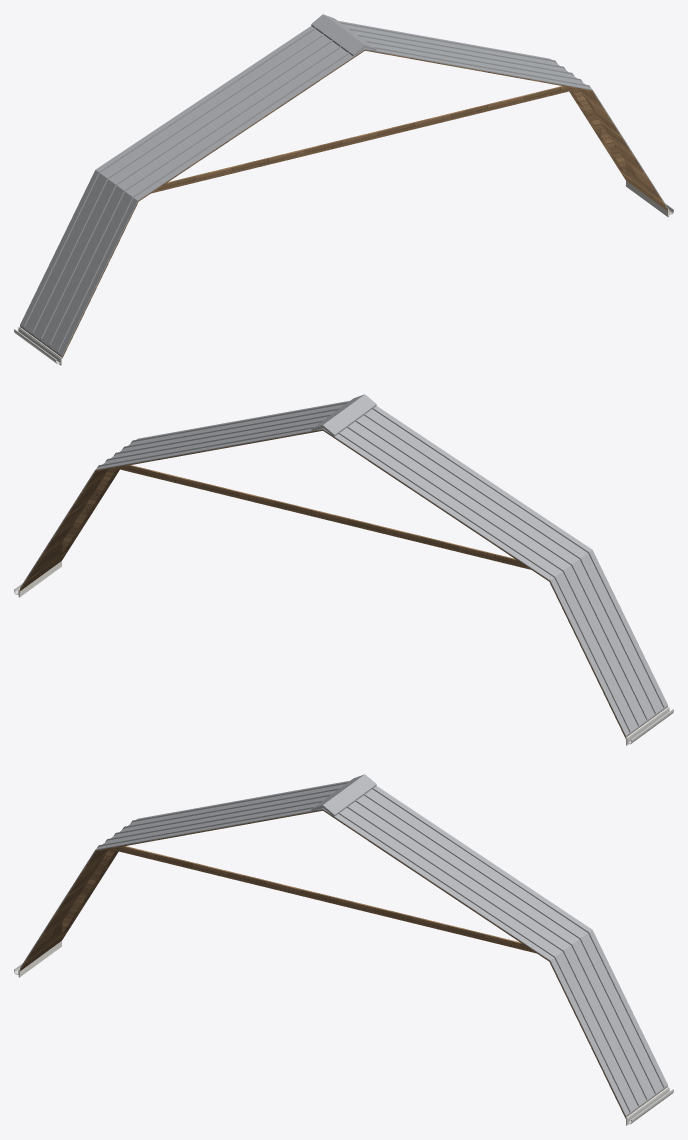
File: barn_roof.glb
3 views of the same model, one above another, from view 1: azimuth 30°, elevation 25°; view 2: azimuth 150°, elevation 25°; view 3: azimuth 330°, elevation 25° (orthographic).
Parts seen in each view (by area): view 1: barn_roof_metal, barn_roof_planks; view 2: barn_roof_metal, barn_roof_planks; view 3: barn_roof_metal, barn_roof_planks.
Boxes of the visible parts, x1=… form: barn_roof_metal: x1=20, y1=14, x2=667, y2=356; barn_roof_planks: x1=20, y1=49, x2=667, y2=358; barn_roof_metal: x1=20, y1=394, x2=667, y2=736; barn_roof_planks: x1=20, y1=429, x2=667, y2=738; barn_roof_metal: x1=20, y1=774, x2=667, y2=1116; barn_roof_planks: x1=20, y1=809, x2=667, y2=1118.
Size of the model in its own units: 16.92 by 6.45 by 2.
4 materials, 1 textured.
